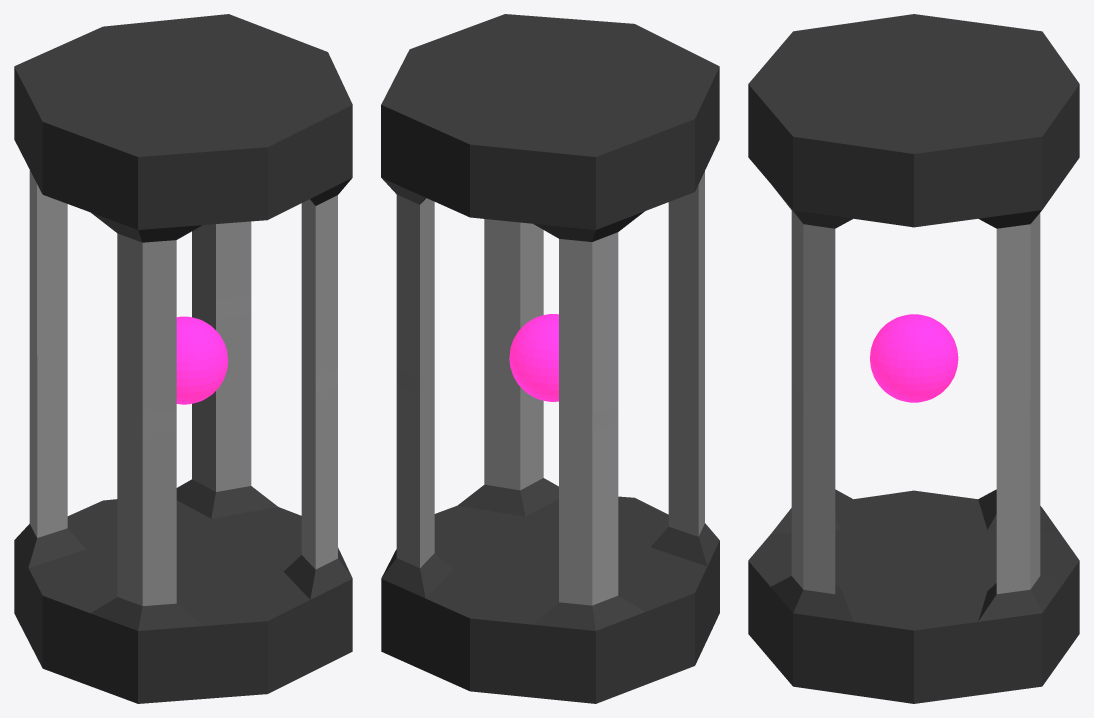
File: objectiveModel.fbx
The picture shows the model from 3 angles, left to right: view 1: azimuth 30°, elevation 25°; view 2: azimuth 150°, elevation 25°; view 3: azimuth 270°, elevation 25°; orthographic projection.
Parts seen in each view (by area): view 1: Cube.001, Sphere; view 2: Cube.001, Sphere; view 3: Cube.001, Sphere.
Part boxes in pixels (x1=…): Cube.001: x1=14, y1=14, x2=352, y2=703; Sphere: x1=176, y1=316, x2=227, y2=404; Cube.001: x1=381, y1=14, x2=719, y2=703; Sphere: x1=509, y1=314, x2=558, y2=401; Cube.001: x1=748, y1=14, x2=1079, y2=703; Sphere: x1=870, y1=314, x2=958, y2=402.
Size of the model in its own units: 302 by 553 by 302.
